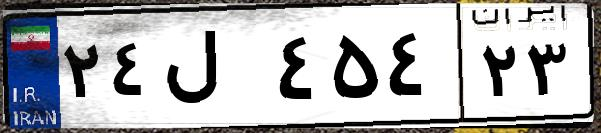2: (57, 26, 110, 100), (475, 38, 525, 113)
3: (525, 38, 570, 115)
4: (270, 28, 330, 110), (385, 28, 445, 110), (110, 28, 158, 98)
5: (330, 28, 385, 110)
ل: (158, 20, 270, 120)
